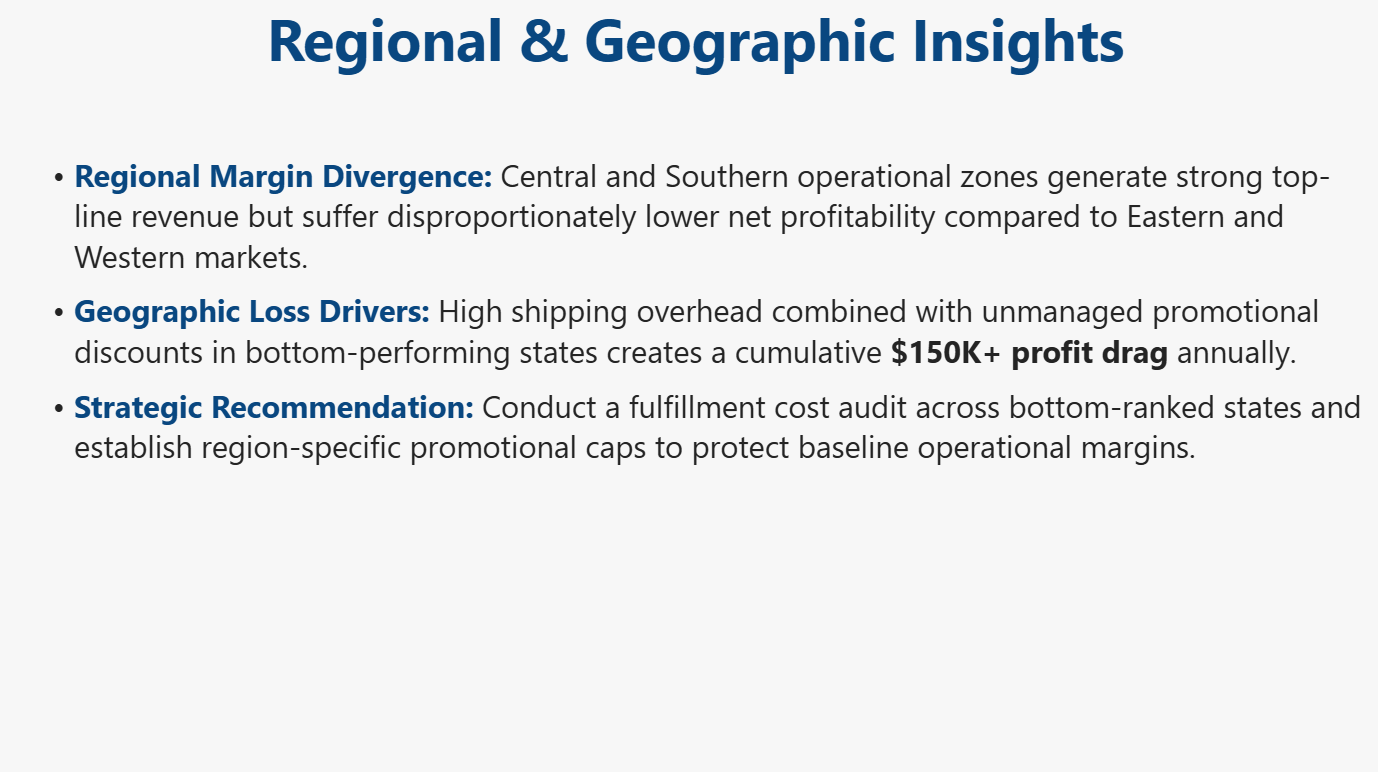

The dashboard page shown, as its layout file describes it:
{"tool":"powerbi","page":{"name":"Regional & Geographic Insights","canvas":[1920,1080],"ordinal":2},"visuals":[{"type":"textbox","box":[42,0,1854,148],"z":0},{"type":"textbox","box":[41.2,214.7,1852.9,488.2],"z":1}]}

Visuals, with their boxes in screenshot pixels (x1, y1, x2, y2), scaled from the page's 1920x1080 canvas onto the 1378x772 screenshot:
textbox: Rect(30, 0, 1361, 106)
textbox: Rect(30, 153, 1359, 502)
